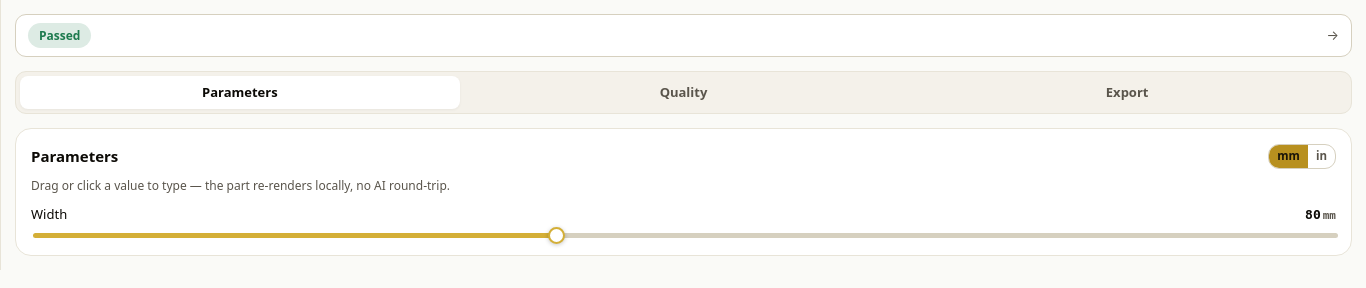
RightPanel live sliders › clicking the value display opens an inline numeric input (Slice 3)
Click the button with aria-label "Width: 80 mm": (1321, 214) 1301,206 -> 1340,223
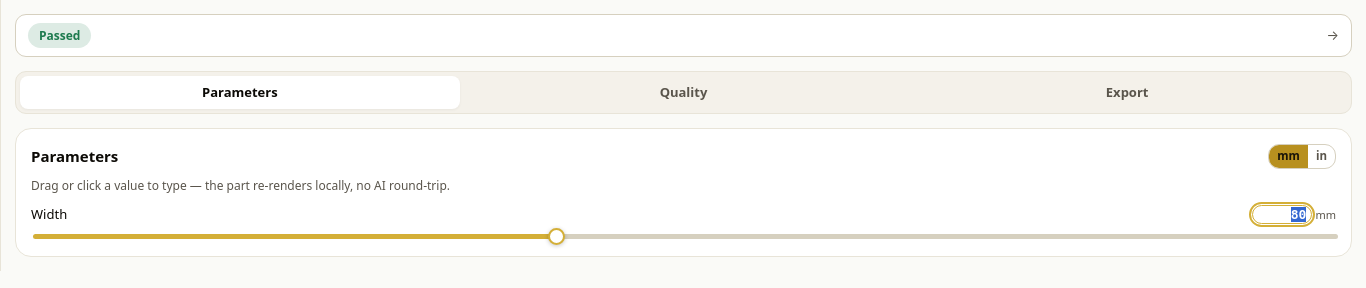
Now the number field named "Width value" holds "80", box 1252,205 -> 1312,224
